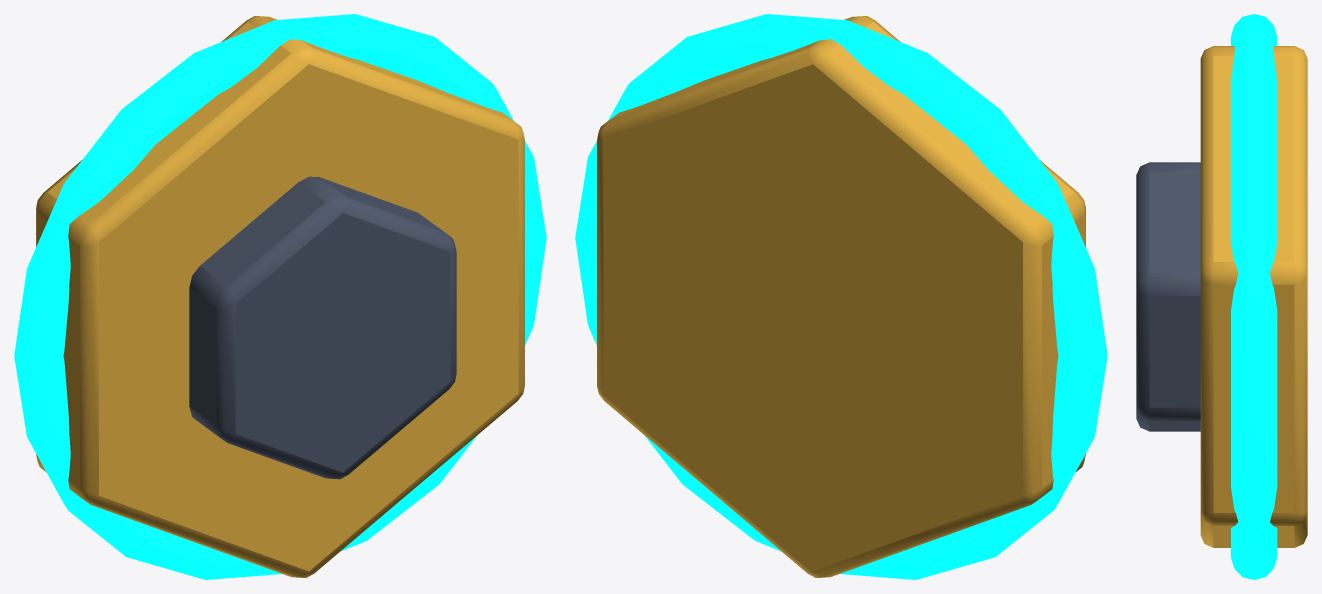
File: pickup_armor_small.glb
3 views of the same model, side by side, from view 1: azimuth 30°, elevation 25°; view 2: azimuth 150°, elevation 25°; view 3: azimuth 270°, elevation 25° (orthographic). The views are drawn at different scales.
Visible parts, largest first — view 1: pickup_armor_small; view 2: pickup_armor_small; view 3: pickup_armor_small.
Boxes of the visible parts, x1,y1,x2,y2 form: pickup_armor_small: [14, 14, 546, 579]; pickup_armor_small: [575, 14, 1107, 579]; pickup_armor_small: [1136, 14, 1307, 579].
Size of the model in its own units: 0.5327 by 0.5327 by 0.16.
